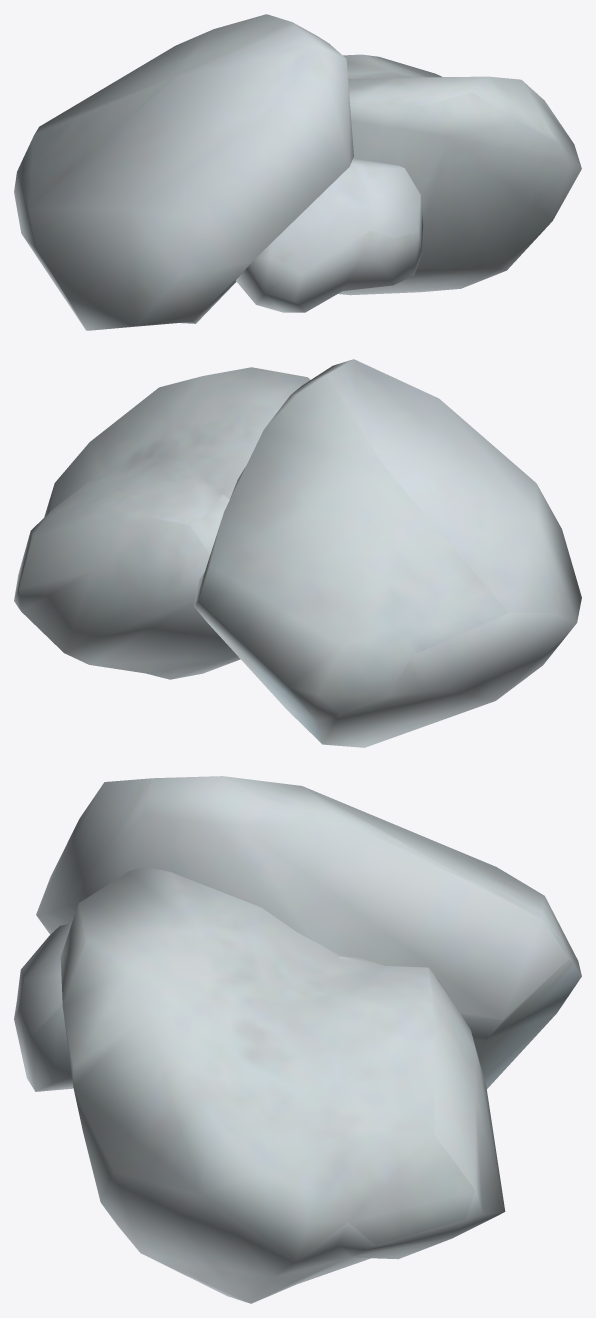
File: P_RockClumpClassic5.obj
3 renders of one model, top to bottom at view 1: azimuth 30°, elevation 25°; view 2: azimuth 150°, elevation 25°; view 3: azimuth 270°, elevation 25°, orthographic. The views are drawn at different scales.
Bounding box in the file's own units: 2.39 × 1.39 × 1.69.
